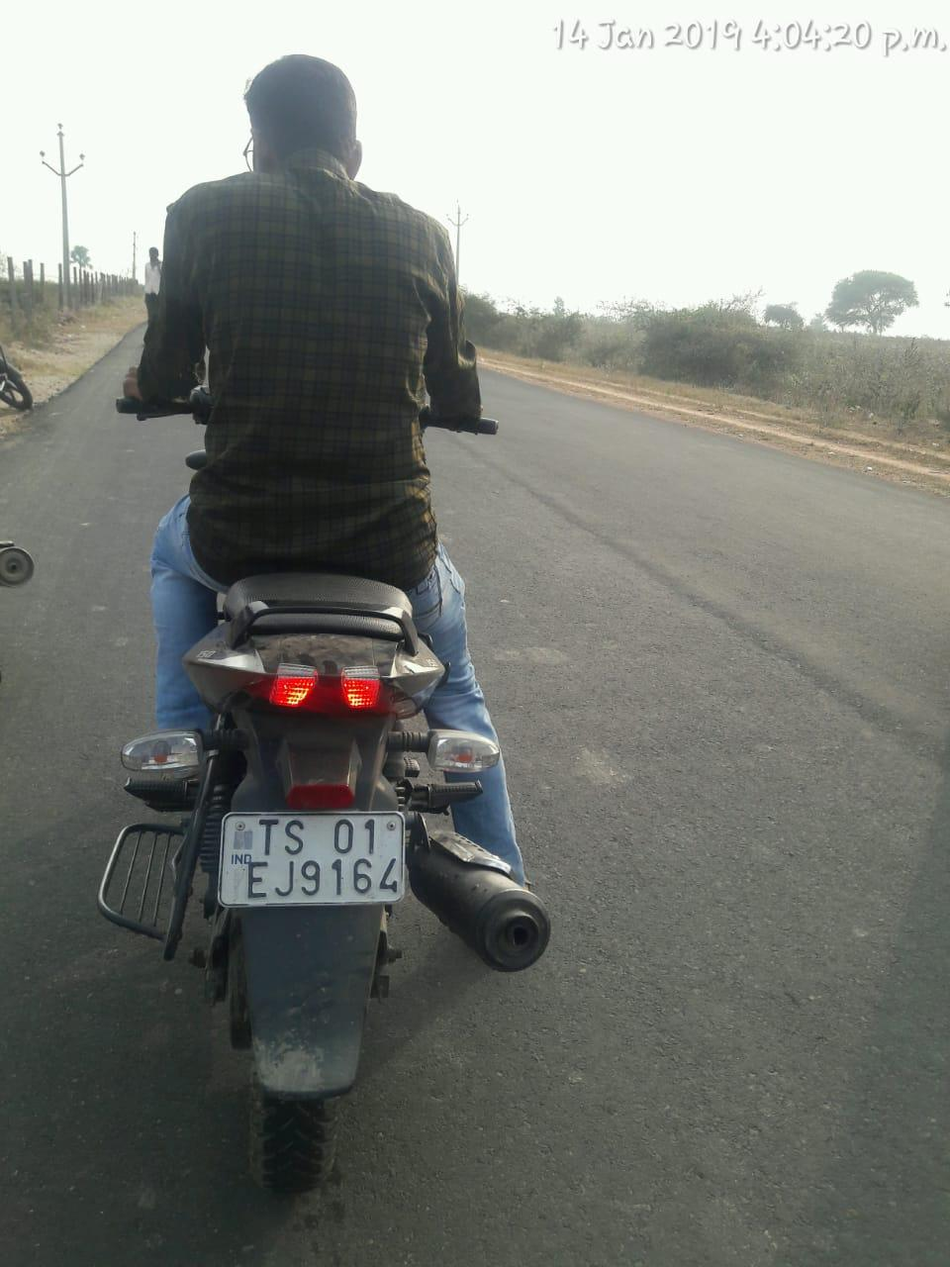plate: (213, 798, 422, 918)
